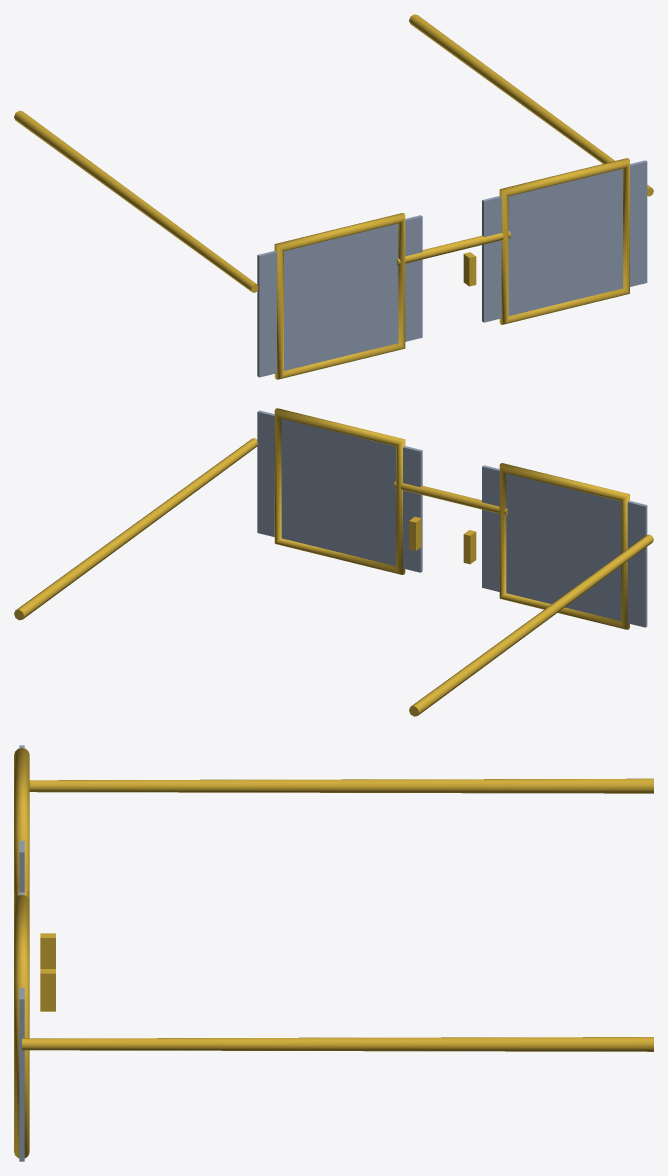
The model's file is rectangle_titanium_gold.glb.
3 views of the same model, one above another, from view 1: azimuth 30°, elevation 25°; view 2: azimuth 150°, elevation 25°; view 3: azimuth 270°, elevation 25° (orthographic). The views are drawn at different scales.
Visible parts, largest first — view 1: rightLens, leftLens, rightRim, leftRim, rightTemple, leftTemple, noseBridge; view 2: leftLens, rightLens, leftRim, rightRim, rightTemple, leftTemple, noseBridge; view 3: leftTemple, rightTemple, leftRim, rightRim, leftLens, nosePad_1.
Part boxes in pixels (x1=…): rightLens: x1=257, y1=215, x2=422, y2=377; leftLens: x1=482, y1=160, x2=647, y2=322; rightRim: x1=274, y1=213, x2=405, y2=379; leftRim: x1=499, y1=158, x2=629, y2=324; rightTemple: x1=14, y1=110, x2=258, y2=292; leftTemple: x1=409, y1=14, x2=653, y2=196; noseBridge: x1=397, y1=231, x2=510, y2=265; leftLens: x1=257, y1=410, x2=422, y2=572; rightLens: x1=482, y1=465, x2=647, y2=627; leftRim: x1=274, y1=408, x2=405, y2=574; rightRim: x1=499, y1=463, x2=629, y2=629; rightTemple: x1=409, y1=534, x2=653, y2=716; leftTemple: x1=14, y1=438, x2=257, y2=620; noseBridge: x1=394, y1=481, x2=507, y2=515; leftTemple: x1=22, y1=1037, x2=653, y2=1051; rightTemple: x1=29, y1=778, x2=653, y2=793; leftRim: x1=14, y1=895, x2=29, y2=1158; rightRim: x1=14, y1=748, x2=29, y2=901; leftLens: x1=19, y1=892, x2=24, y2=1161; nosePad_1: x1=40, y1=969, x2=55, y2=1011.
Size of the model in its own units: 0.119 by 0.0378 by 0.1215.
